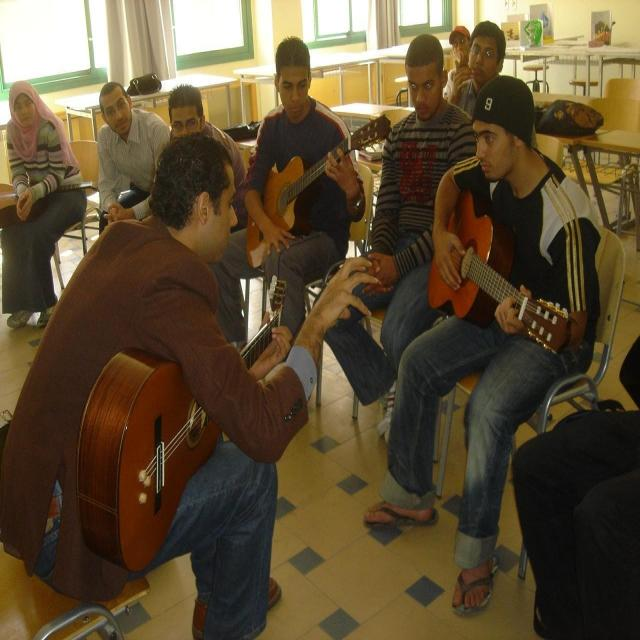guitar: (76, 282, 292, 576), (424, 182, 574, 355), (246, 110, 393, 267)
